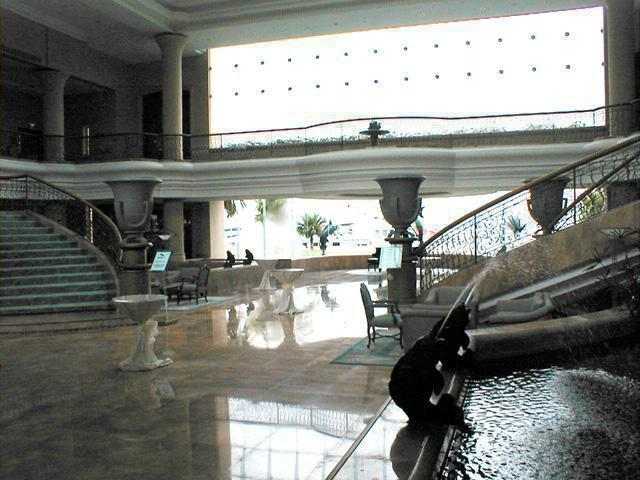Escaleras: (418, 139, 634, 298), (4, 196, 121, 318)
Otro Obstaculo: (114, 293, 175, 371), (271, 264, 306, 323)
